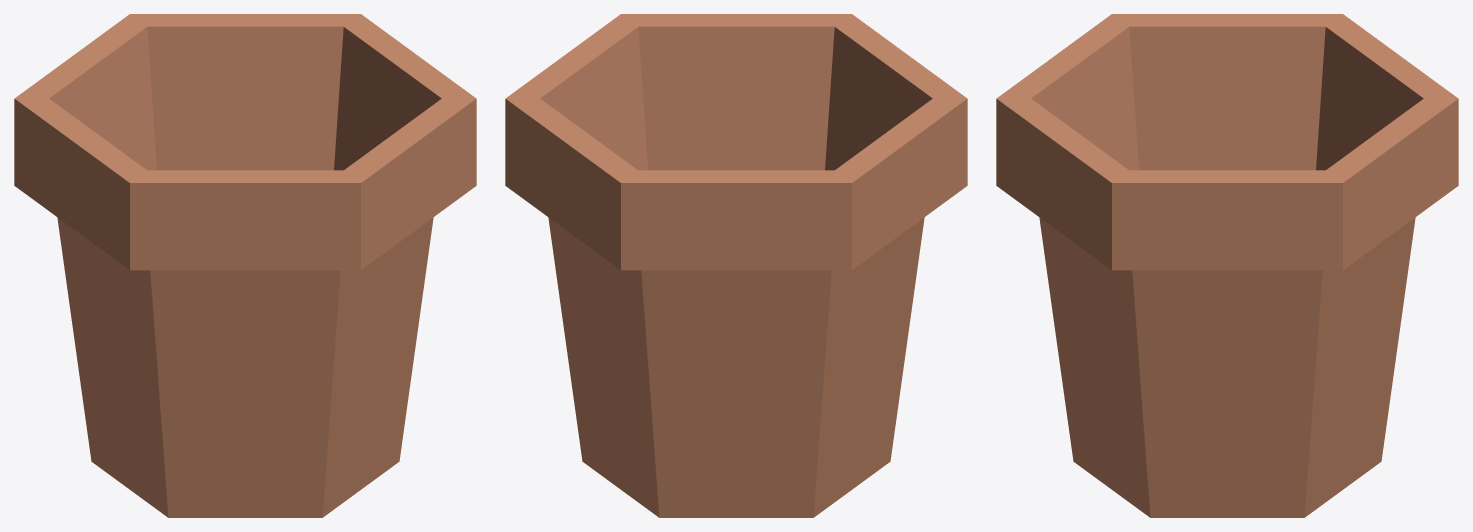
The model's file is FlowerPot1.fbx.
3 views of the same model, side by side, from view 1: azimuth 30°, elevation 25°; view 2: azimuth 150°, elevation 25°; view 3: azimuth 270°, elevation 25° (orthographic).
Visible parts, largest first — view 1: Cylinder; view 2: Cylinder; view 3: Cylinder.
Boxes of the visible parts, <box> form: Cylinder: <box>14,14,476,517</box>; Cylinder: <box>505,14,967,517</box>; Cylinder: <box>996,14,1458,517</box>.
Size of the model in its own units: 0.3118 by 0.3121 by 0.36.
